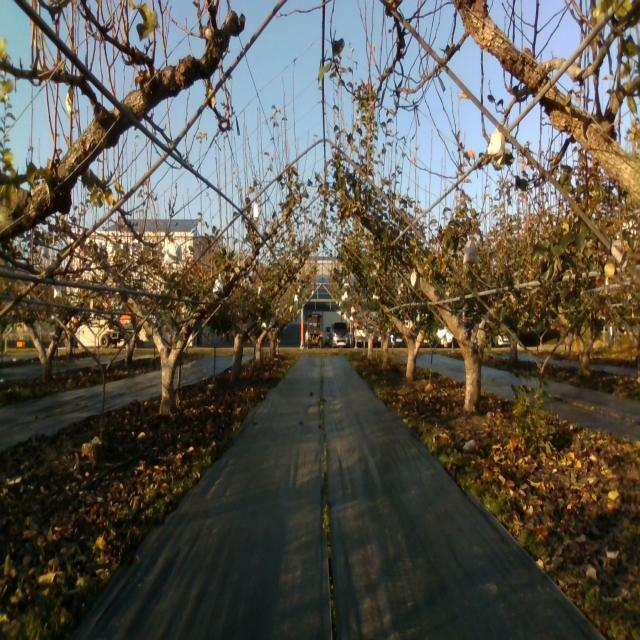pearbags: (487, 128, 506, 171), (163, 240, 183, 266), (463, 238, 478, 268), (212, 272, 224, 292)
